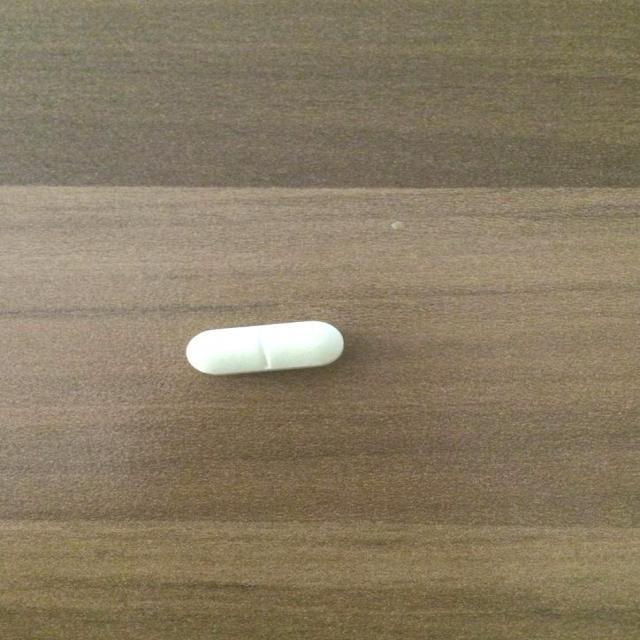pill: (178, 318, 352, 380)
